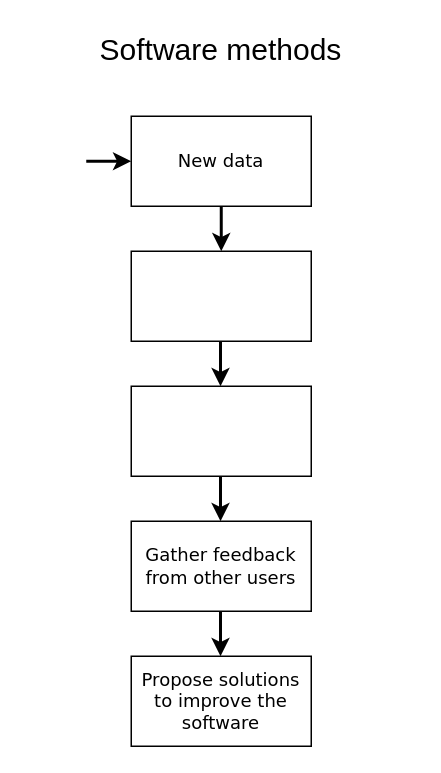
Some shapes in this 441 by 773 pixel diagram are drawn without their labels. The centre of each missing label's shape, as x and y in pixels:
Test available software on data: (x=220, y=295)
Various errors and minor issues: (x=220, y=430)
